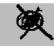not correct: (8, 3, 54, 43)
